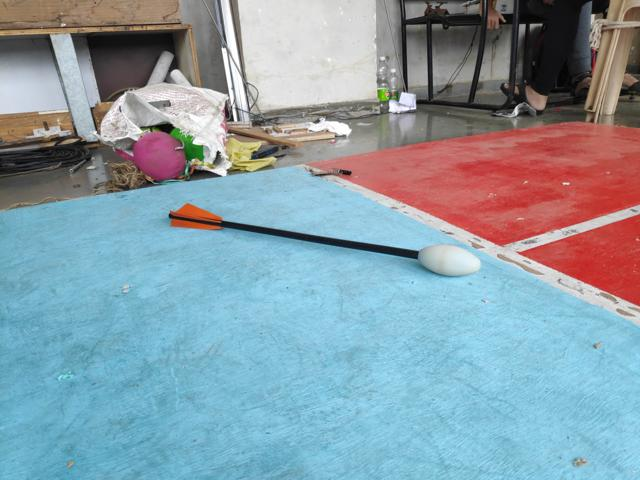Head: (415, 243, 484, 276)
Tail: (167, 201, 227, 233)
